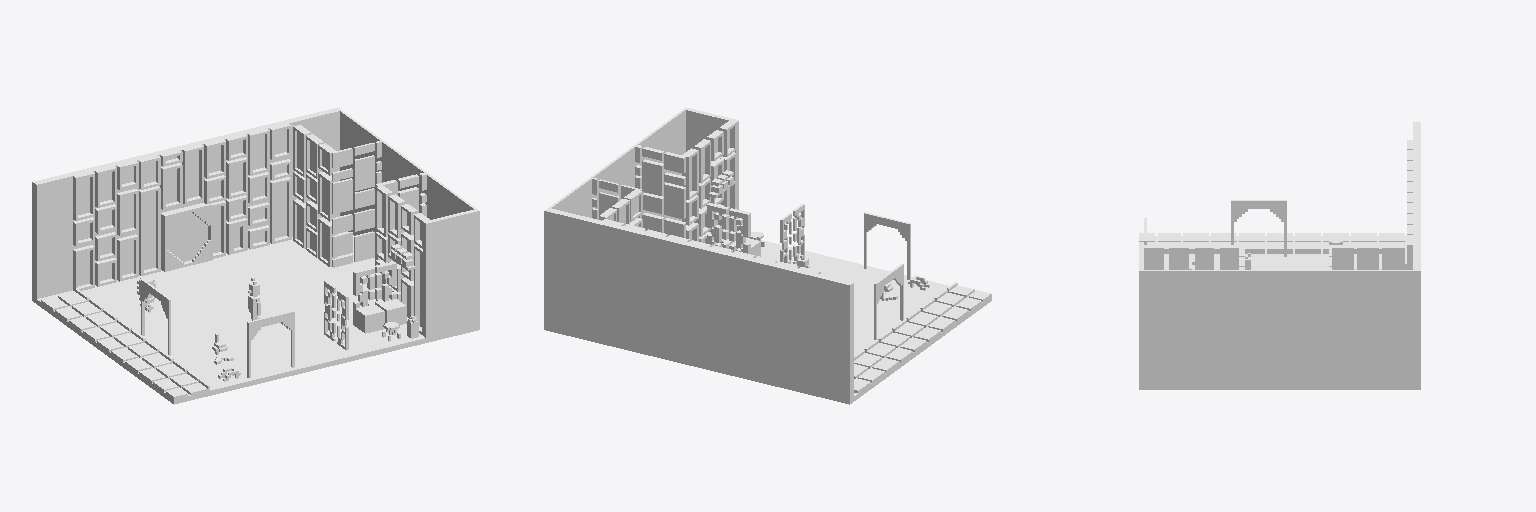
Rendered from CraftonEtXunk.obj.
3 views of the same model, side by side, from view 1: azimuth 30°, elevation 25°; view 2: azimuth 150°, elevation 25°; view 3: azimuth 270°, elevation 25° (orthographic).
Bounding box in the file's own units: 126 × 47 × 101.